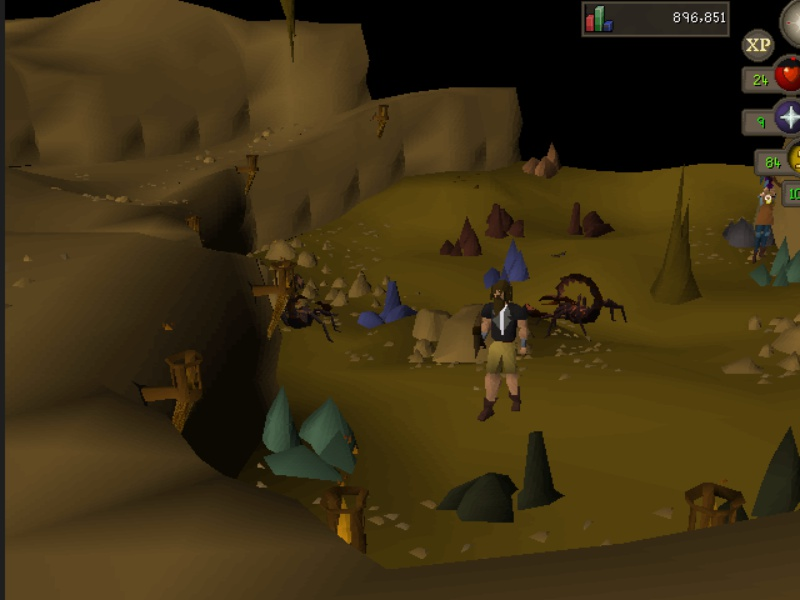adamant: (258, 383, 366, 487), (749, 231, 800, 292)
coal: (432, 423, 570, 526), (746, 419, 800, 521)
copper: (520, 141, 565, 184)
iron: (565, 195, 619, 241), (436, 215, 484, 261), (482, 199, 529, 239)
mithril: (355, 277, 420, 330), (481, 238, 533, 291)
